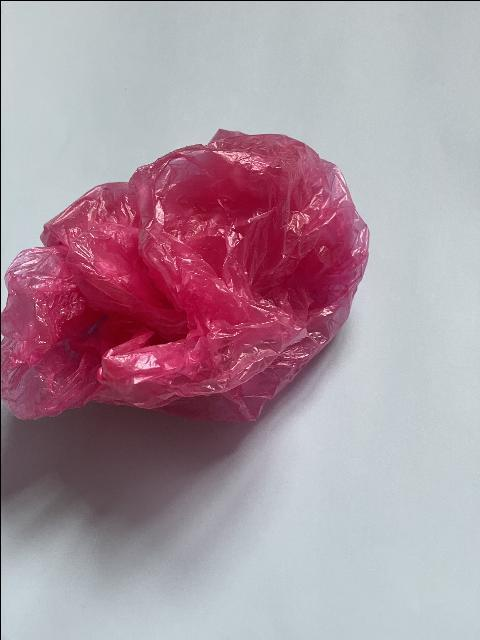plasticbag: (0, 125, 370, 425)
